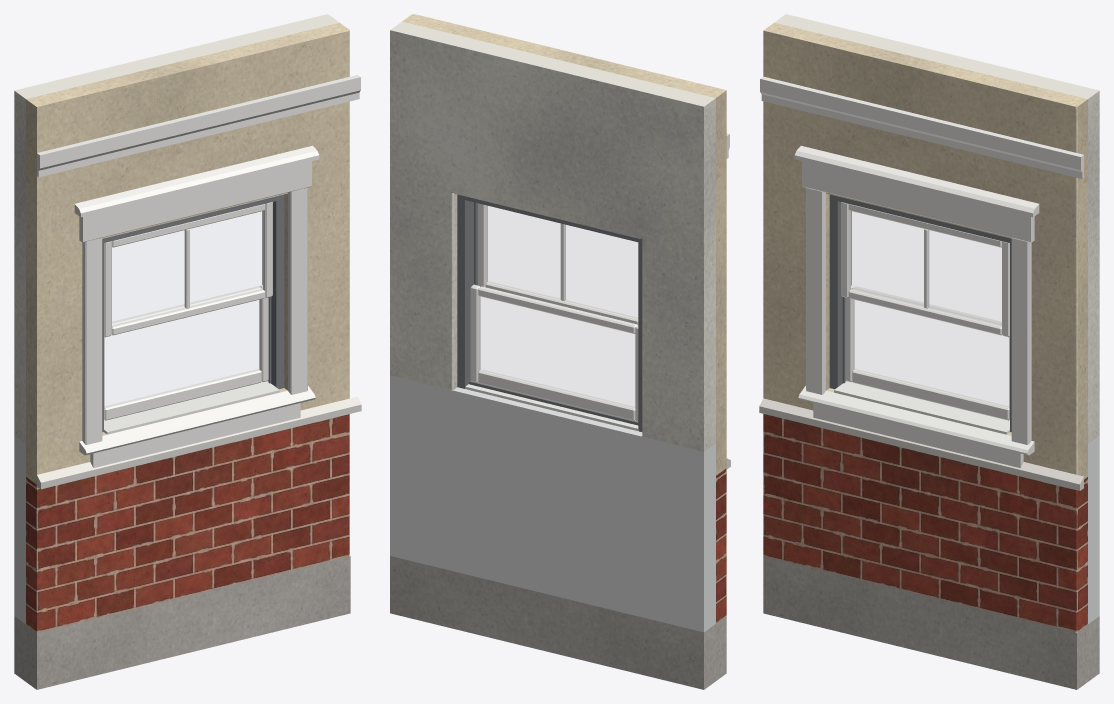
The model's file is c_win_eb.glb.
The picture shows the model from 3 angles, left to right: view 1: azimuth 30°, elevation 25°; view 2: azimuth 150°, elevation 25°; view 3: azimuth 330°, elevation 25°; orthographic projection.
Parts seen in each view (by area): view 1: c_win_eb_render, c_win_eb_brick, c_win_eb_trim, c_win_eb_concrete, c_win_eb_glass, folha_glass, c_win_eb_plaster, c_win_eb_sash, c_win_eb_frame, folha_sash, c_win_eb_coping, c_win_eb_tile; view 2: c_win_eb_plaster, c_win_eb_tile, c_win_eb_concrete, folha_glass, c_win_eb_glass, c_win_eb_render, c_win_eb_frame, folha_sash, c_win_eb_sash, c_win_eb_brick, c_win_eb_trim; view 3: c_win_eb_render, c_win_eb_brick, c_win_eb_trim, c_win_eb_concrete, c_win_eb_glass, folha_glass, c_win_eb_plaster, c_win_eb_sash, c_win_eb_frame, folha_sash, c_win_eb_coping, c_win_eb_tile.
Boxes of the visible parts, x1,y1,x2,y2 form: c_win_eb_render: (26, 22, 349, 484); c_win_eb_brick: (26, 414, 349, 632); c_win_eb_trim: (37, 75, 360, 467); c_win_eb_concrete: (14, 556, 350, 689); c_win_eb_glass: (112, 211, 263, 325); folha_glass: (105, 300, 259, 406); c_win_eb_plaster: (14, 14, 339, 443); c_win_eb_sash: (104, 202, 272, 337); c_win_eb_frame: (102, 194, 284, 432); folha_sash: (104, 285, 268, 420); c_win_eb_coping: (37, 396, 361, 489); c_win_eb_tile: (14, 435, 25, 624); c_win_eb_plaster: (390, 21, 715, 451); c_win_eb_tile: (390, 375, 715, 632); c_win_eb_concrete: (390, 556, 726, 689); folha_glass: (480, 297, 634, 407); c_win_eb_glass: (487, 206, 637, 317); c_win_eb_render: (402, 14, 726, 475); c_win_eb_frame: (457, 194, 642, 431); folha_sash: (470, 284, 638, 421); c_win_eb_sash: (478, 203, 638, 325); c_win_eb_brick: (716, 468, 726, 623); c_win_eb_trim: (465, 133, 729, 436); c_win_eb_render: (763, 22, 1087, 479); c_win_eb_brick: (763, 414, 1087, 631); c_win_eb_trim: (760, 76, 1083, 467); c_win_eb_concrete: (763, 556, 1099, 689); c_win_eb_glass: (850, 211, 1001, 325); folha_glass: (854, 300, 1008, 406); c_win_eb_plaster: (774, 14, 1099, 443); c_win_eb_sash: (841, 202, 1009, 337); c_win_eb_frame: (829, 194, 1011, 432); folha_sash: (845, 285, 1009, 420); c_win_eb_coping: (759, 398, 1083, 490); c_win_eb_tile: (1088, 435, 1099, 624).
Bounding box in the file's own units: 2.04 × 3.55 × 0.332.
Materials: 10 (4 with a texture image).
